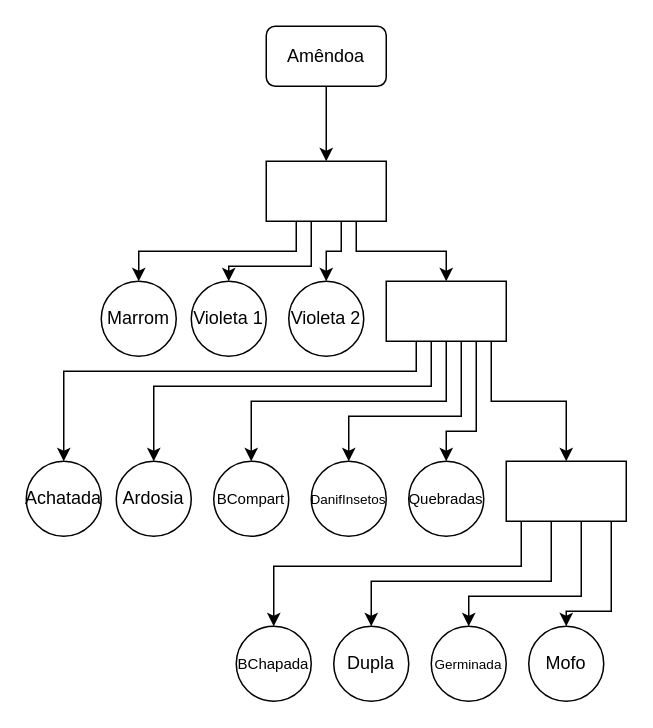
Image size: 653x728. Some labels were removed from this diagram. Here are the shapes that lost their labels. From the top down, the centre of each, then its label:
pixel 325 190: Rede 1
pixel 445 310: Rede 2
pixel 565 490: Rede 3
